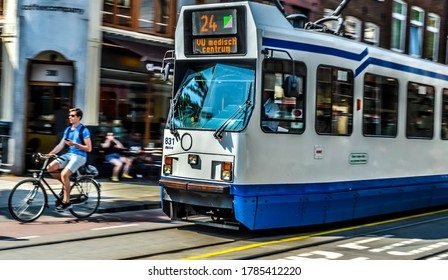commuter: (8, 107, 102, 224)
